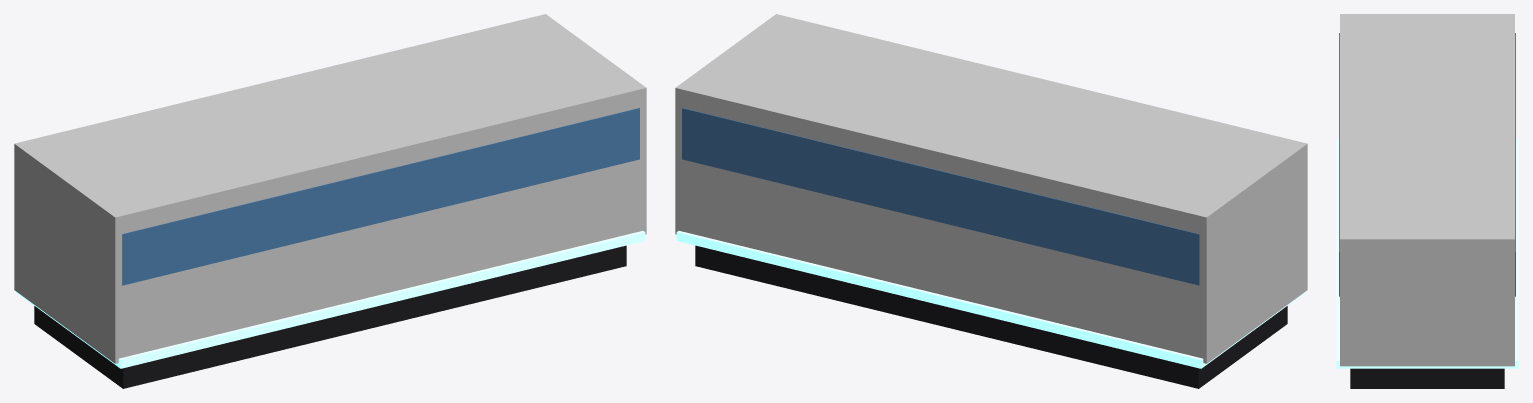
File: coach_2030.glb
3 views of the same model, side by side, from view 1: azimuth 30°, elevation 25°; view 2: azimuth 150°, elevation 25°; view 3: azimuth 270°, elevation 25° (orthographic). The views are drawn at different scales.
Visible parts, largest first — view 1: Body, Windows, Chassis, Glow; view 2: Body, Windows, Chassis, Glow; view 3: Body, Chassis, Glow, Windows.
Part boxes in pixels (<box>): Body: <box>14,14,646,363</box>; Windows: <box>122,108,639,285</box>; Chassis: <box>34,245,626,388</box>; Glow: <box>15,231,645,368</box>; Body: <box>675,14,1307,363</box>; Windows: <box>682,108,1199,285</box>; Chassis: <box>695,245,1287,388</box>; Glow: <box>676,231,1306,368</box>; Body: <box>1340,14,1514,366</box>; Chassis: <box>1350,368,1504,388</box>; Glow: <box>1336,138,1518,368</box>; Windows: <box>1339,33,1515,296</box>.
Size of the model in its own units: 0.76 by 0.245 by 0.26.
